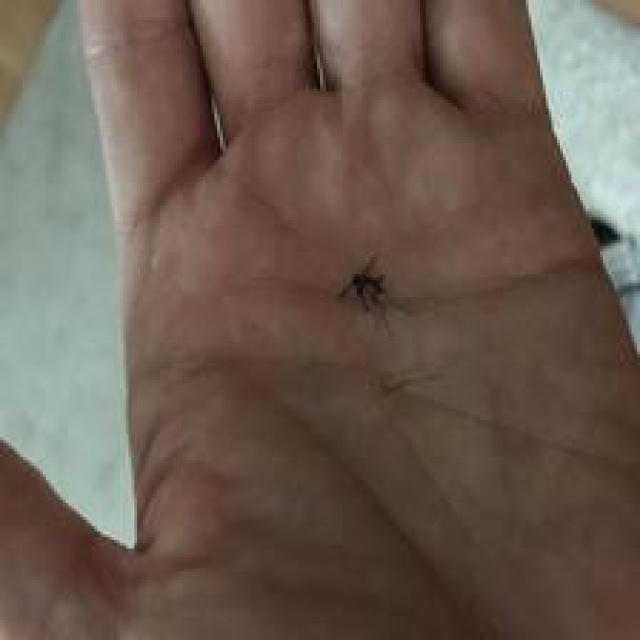Aedes albopictus: (334, 253, 412, 336)
